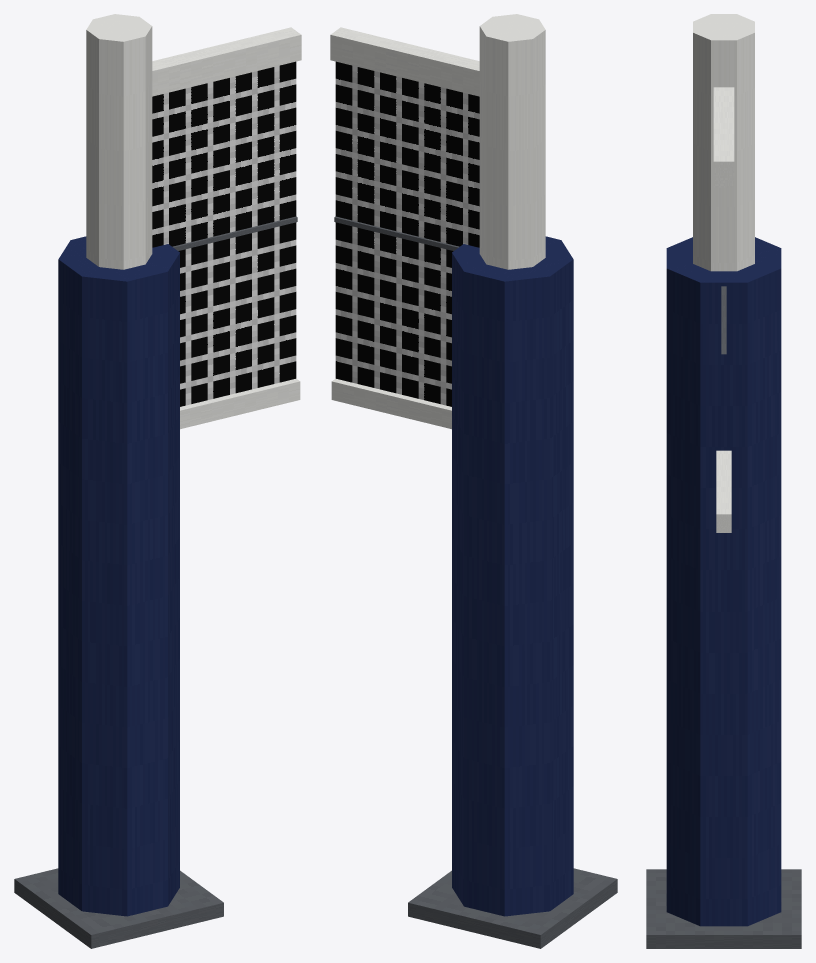
The model's file is vb_w_end_l.obj.
3 renders of one model, left to right at view 1: azimuth 30°, elevation 25°; view 2: azimuth 150°, elevation 25°; view 3: azimuth 270°, elevation 25°, orthographic.
Parts seen in each view (by area): view 1: vb_w_end_l; view 2: vb_w_end_l; view 3: vb_w_end_l.
Part boxes in pixels (box(x1,y1,x2,y2)): vb_w_end_l: box(14, 14, 301, 948); vb_w_end_l: box(330, 14, 617, 948); vb_w_end_l: box(646, 14, 801, 948).
Size of the model in its own units: 0.6875 by 2.37 by 0.375.
